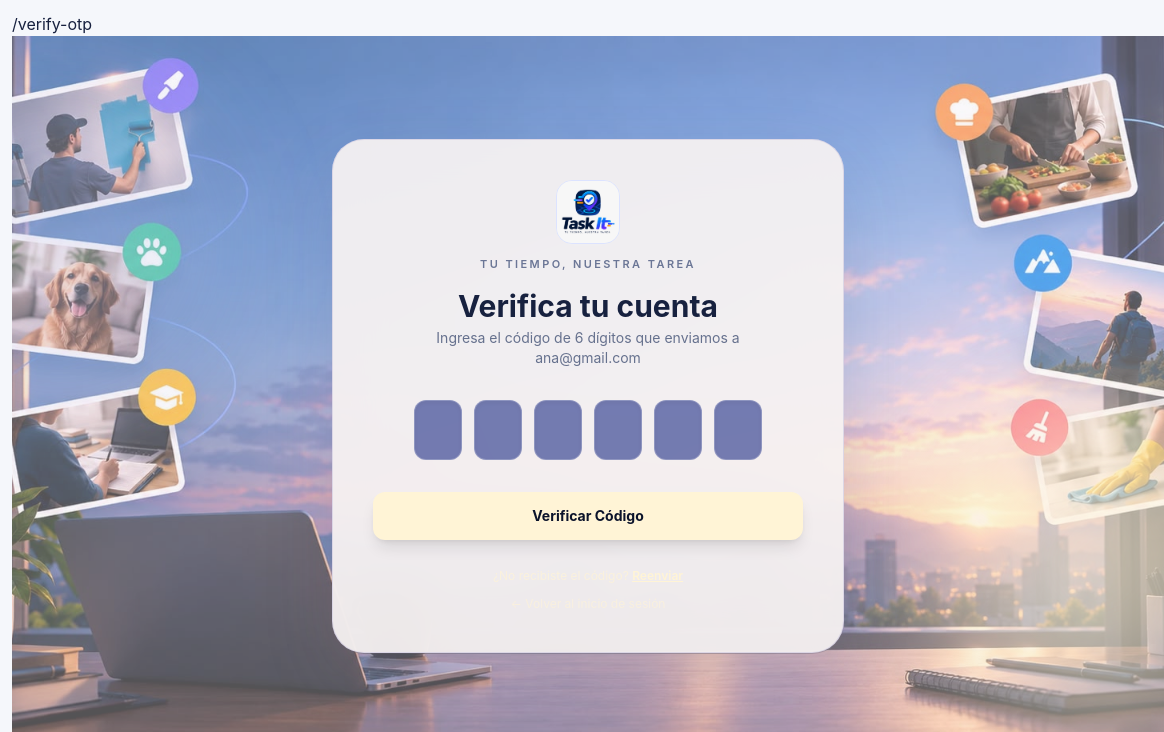
it: OtpVerificationPage › código inválido: muestra el mensaje del servidor
The width and height of the screenshot is (1164, 732).
Click the 1st field at x=438, y=430, box top-left (414, 400), bottom-right (462, 460)
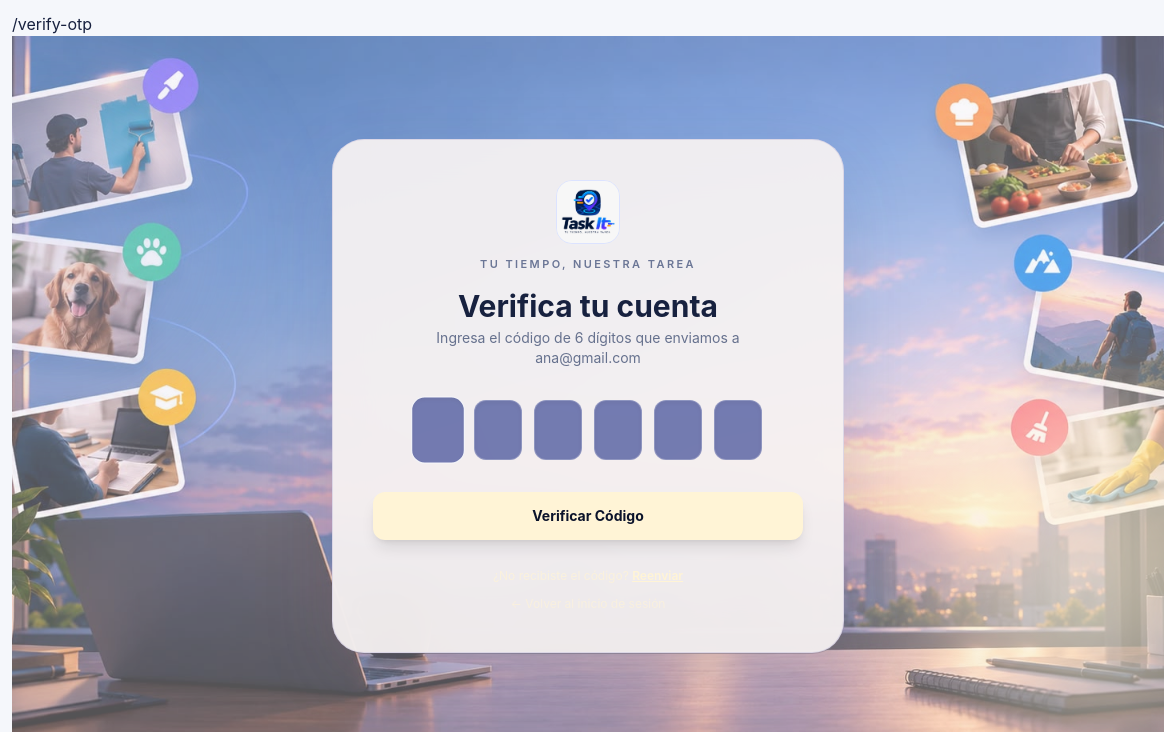
Type keys "111111"
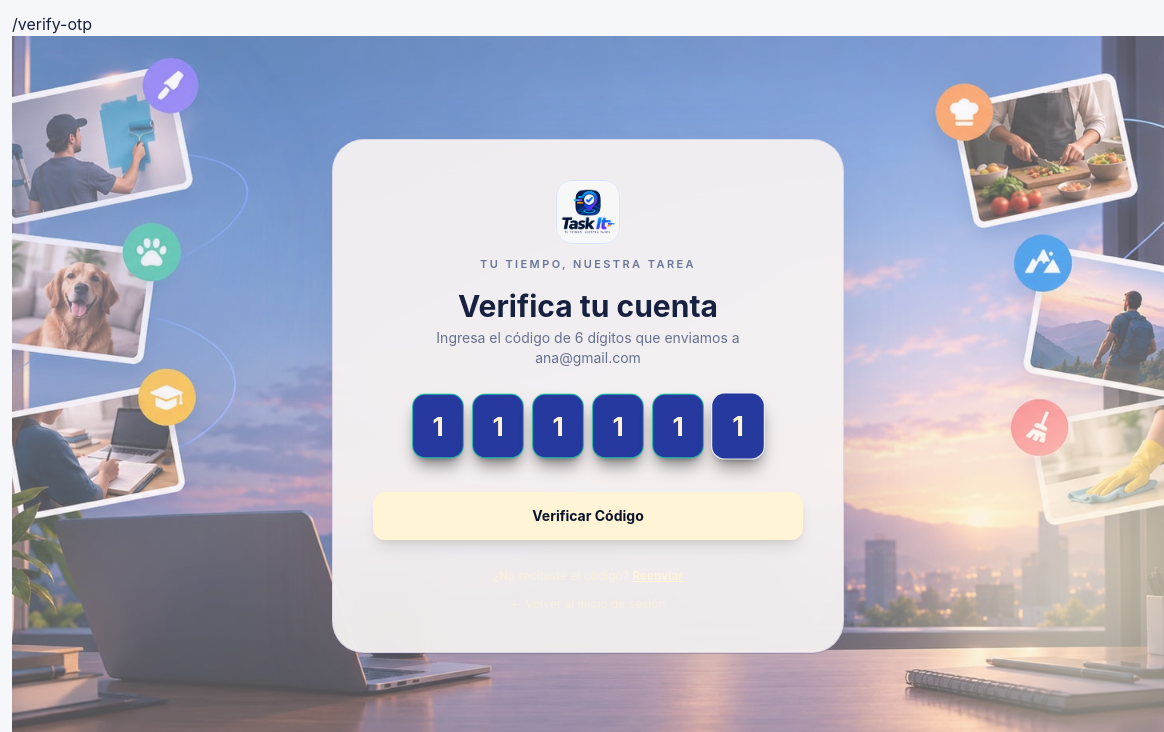
Click the button "Verificar Código" at x=588, y=516, box top-left (373, 492), bottom-right (803, 540)
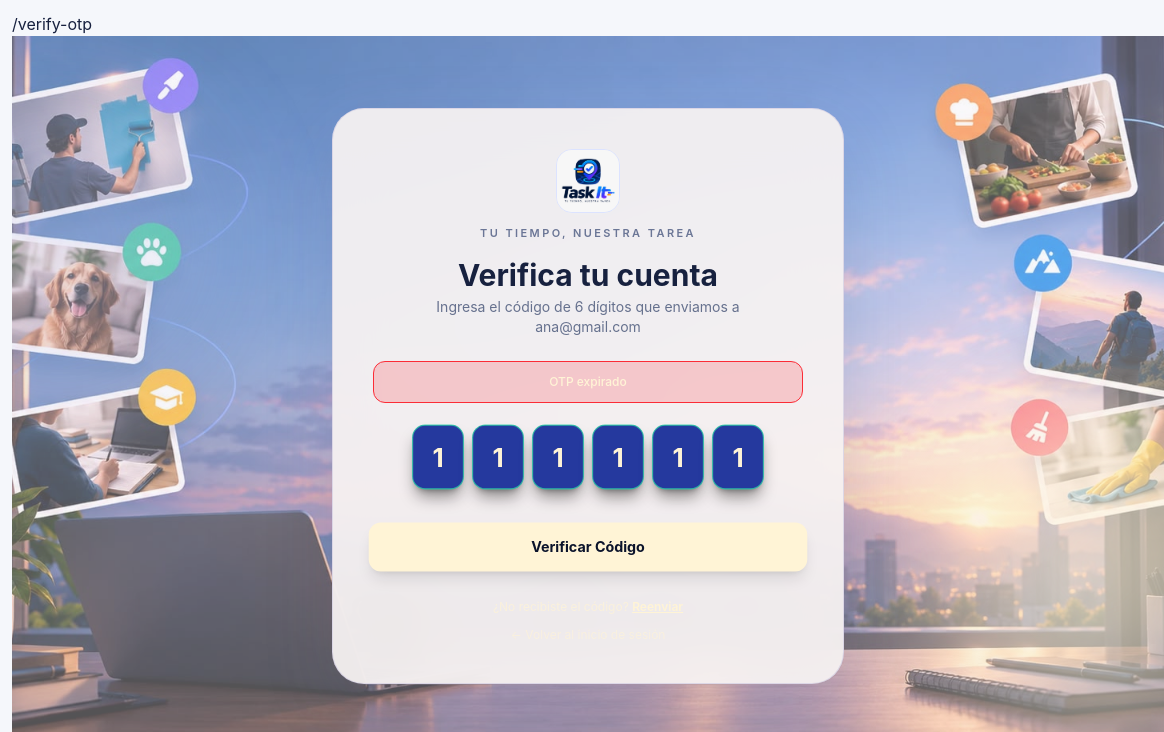
Expected: the text "OTP expirado" is shown, top-left (373, 361), bottom-right (803, 403)
